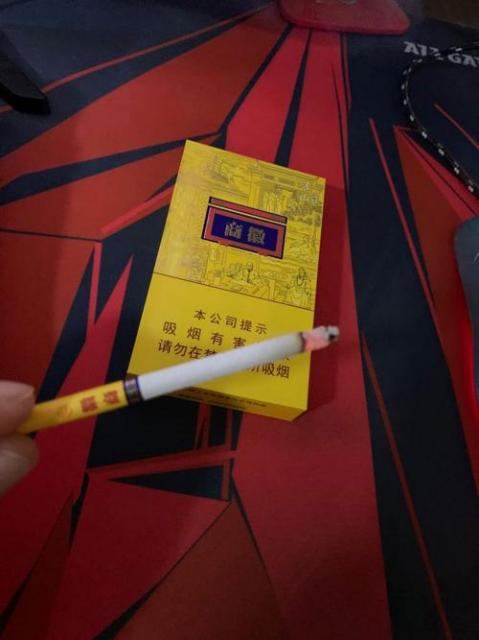Cigarette: (15, 326, 342, 434)
